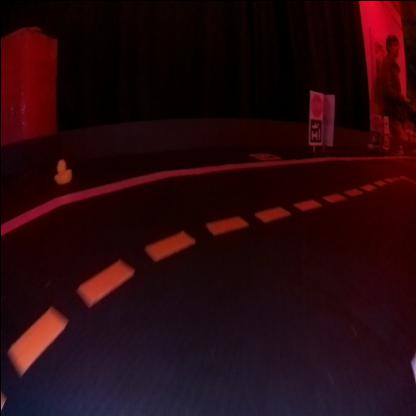Duckie: (52, 158, 70, 182)
QR code: (309, 118, 321, 142), (249, 152, 278, 158), (370, 130, 378, 143)
Stop sign: (310, 92, 320, 114)
